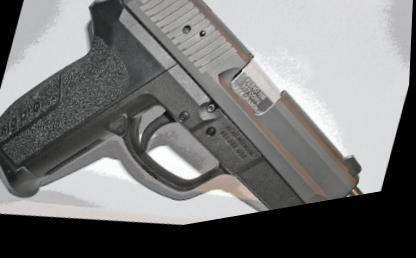pistol: (0, 0, 415, 255)
